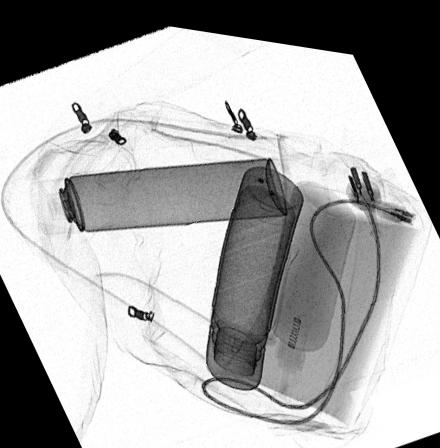Sprayer: (26, 148, 285, 231)
